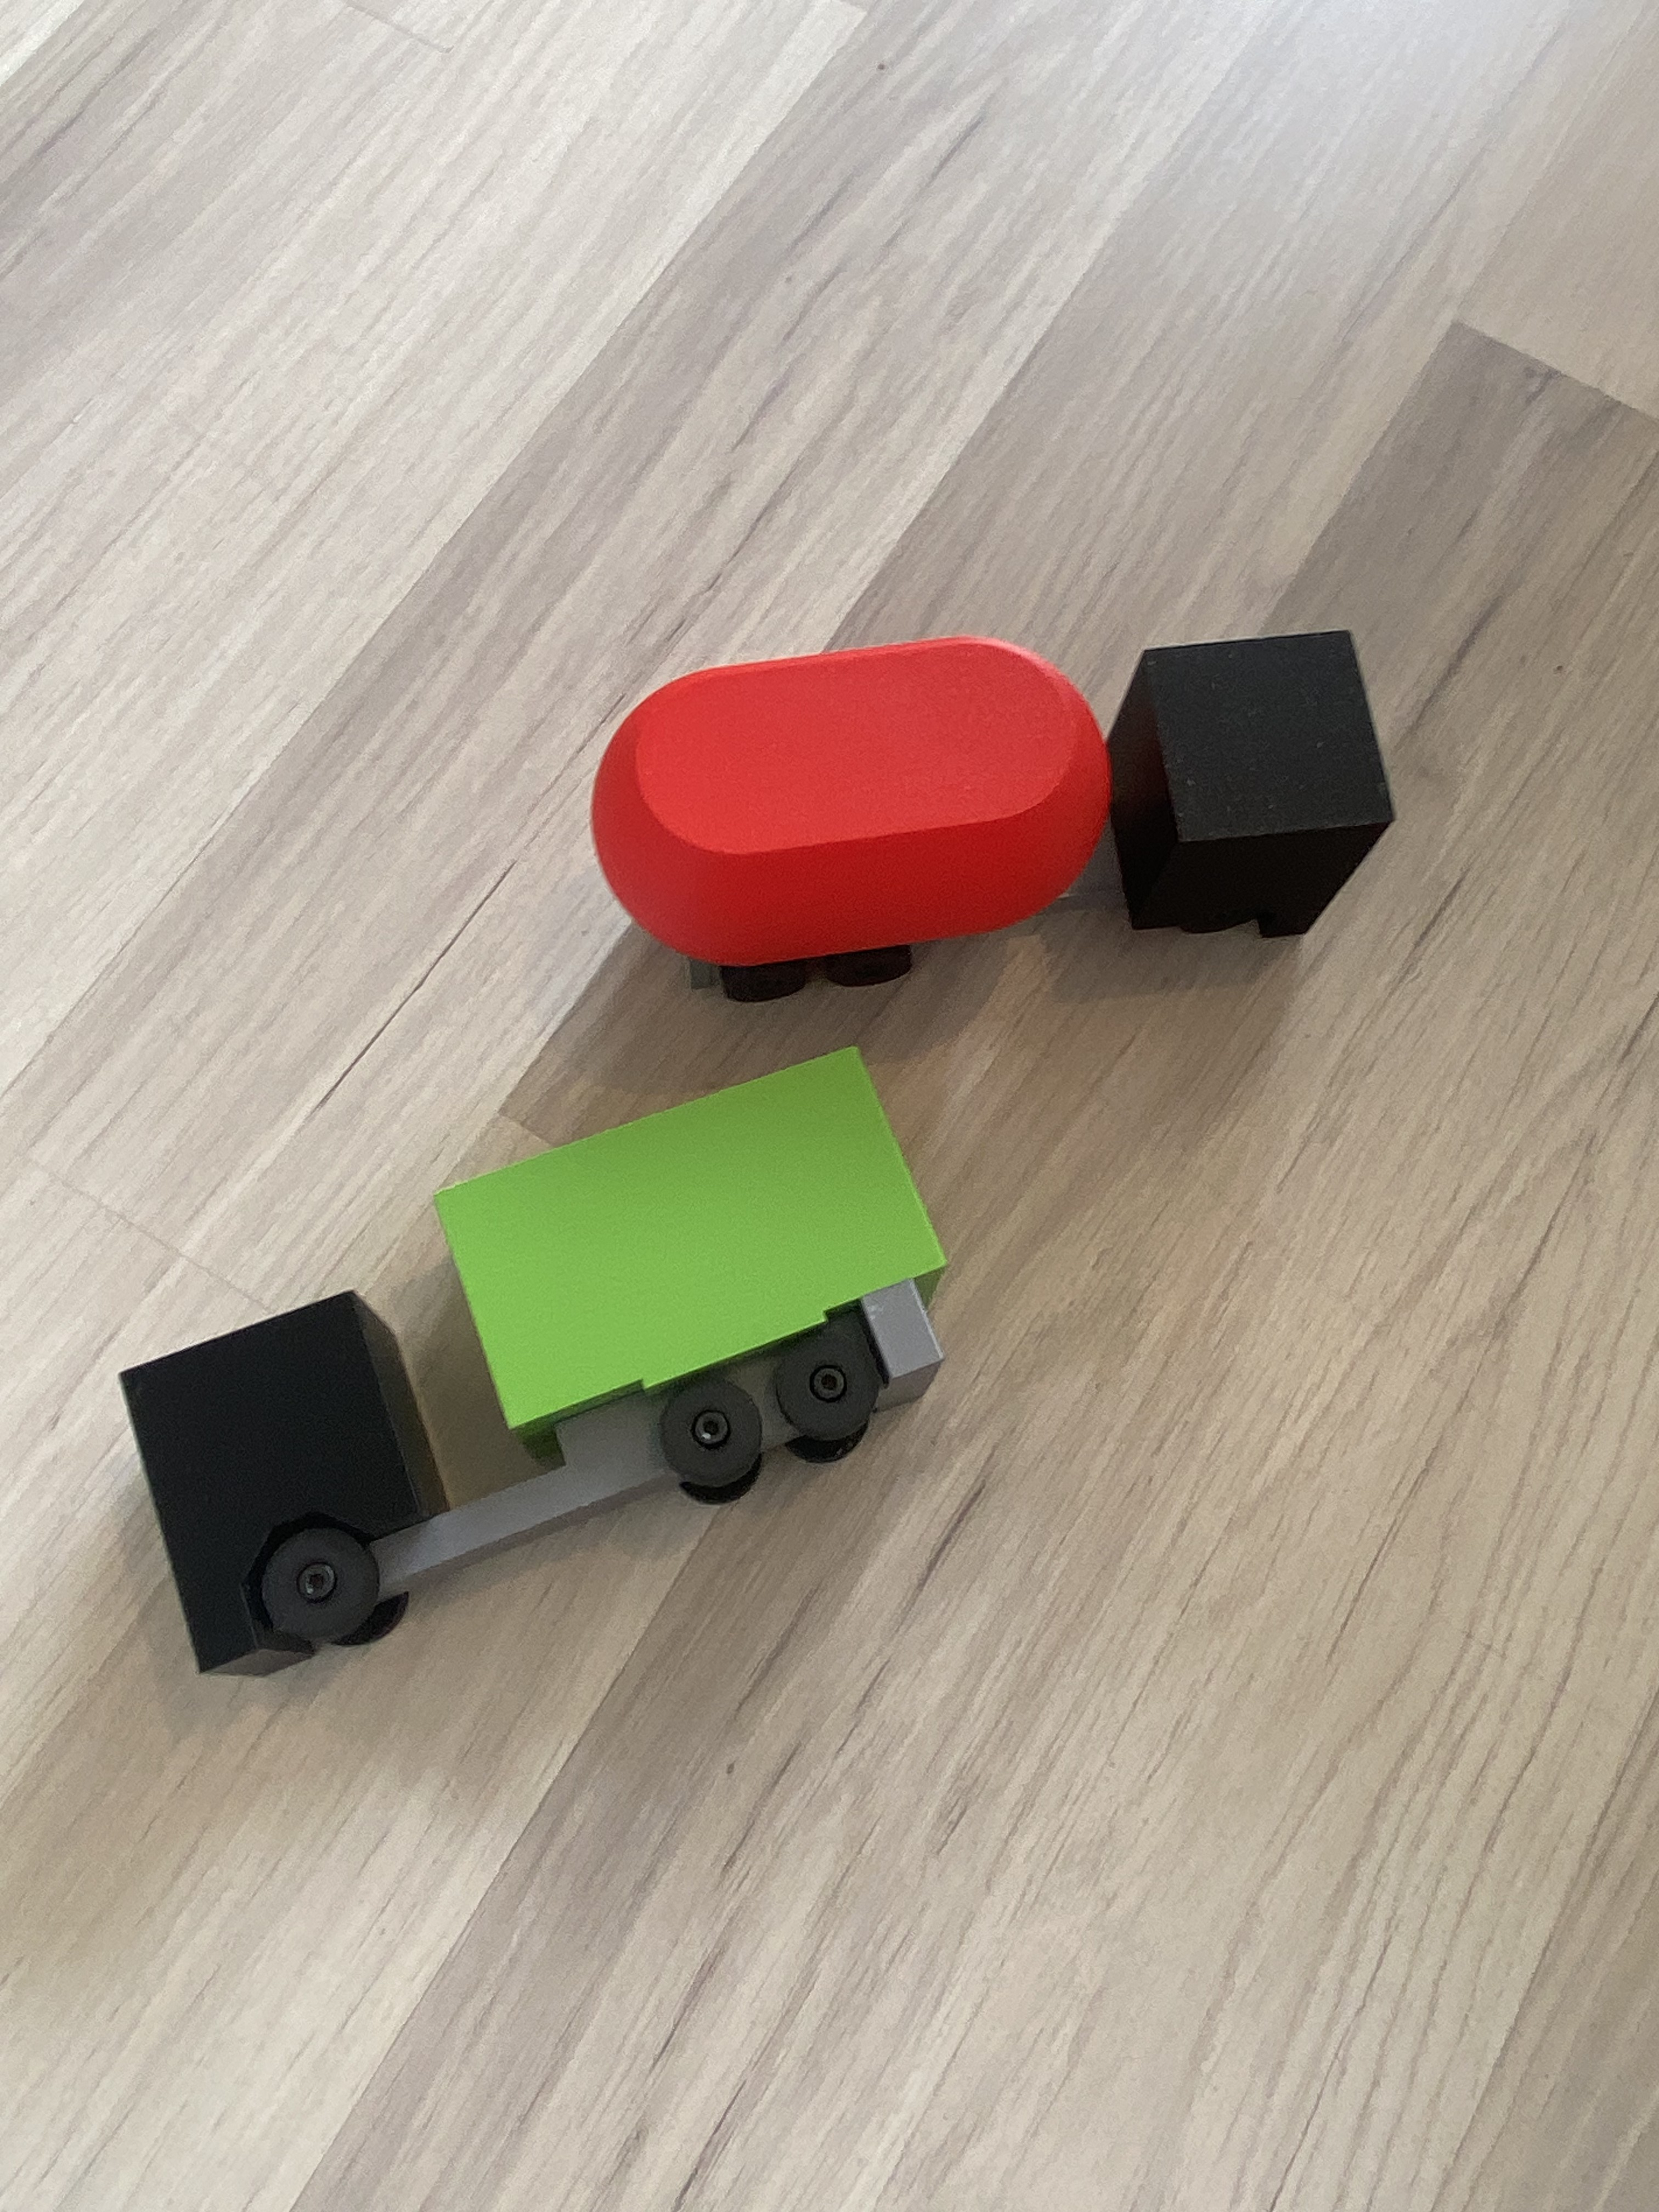green_truck: (322, 953, 751, 1780)
red_truck: (798, 415, 1164, 1211)
